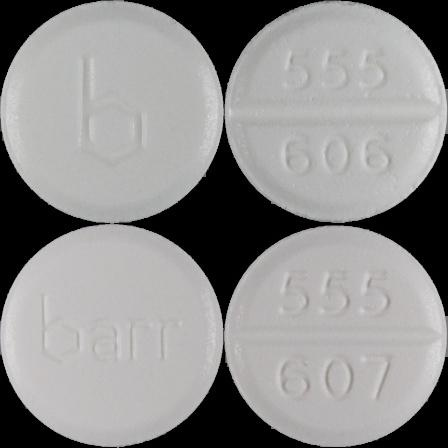0555-0606: (0, 0, 224, 224)
